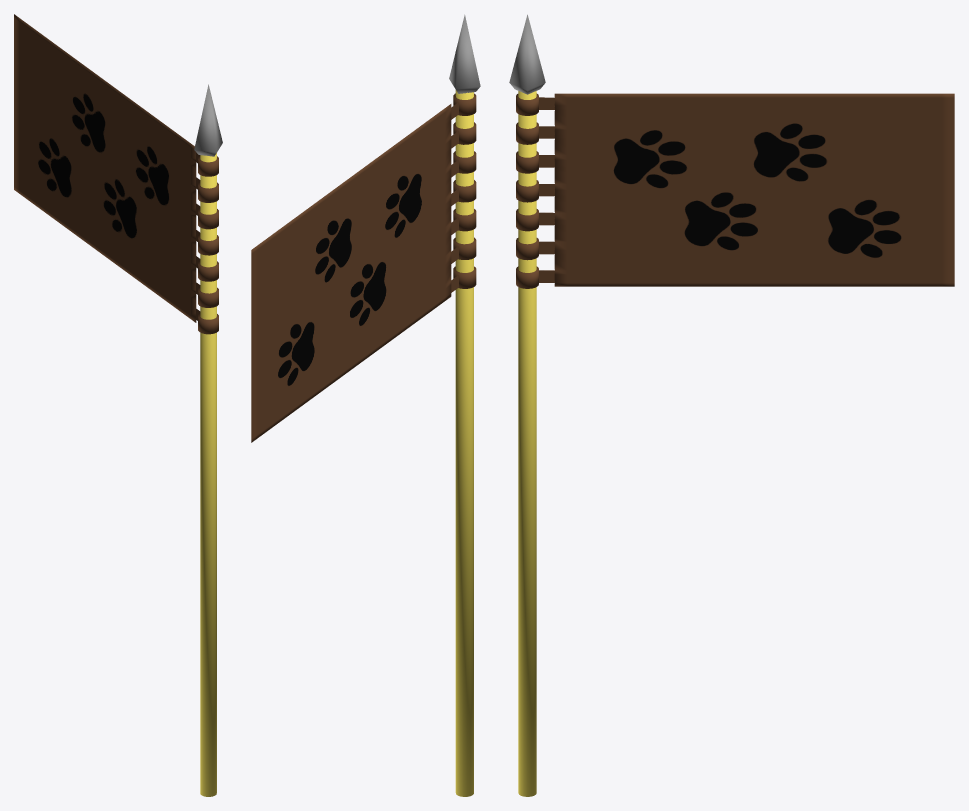
The model's file is Flag_FBX.fbx.
The picture shows the model from 3 angles, left to right: view 1: azimuth 30°, elevation 25°; view 2: azimuth 150°, elevation 25°; view 3: azimuth 270°, elevation 25°; orthographic projection. The views are drawn at different scales.
Parts seen in each view (by area): view 1: flag, pole, flag_connection; view 2: flag, pole, flag_connection; view 3: flag, pole, flag_connection.
Part boxes in pixels (bbox=[...]): flag: bbox=[14, 14, 200, 322]; pole: bbox=[194, 84, 222, 796]; flag_connection: bbox=[198, 156, 218, 334]; flag: bbox=[251, 102, 458, 442]; pole: bbox=[449, 14, 480, 796]; flag_connection: bbox=[453, 93, 476, 288]; flag: bbox=[539, 93, 954, 286]; pole: bbox=[509, 14, 545, 796]; flag_connection: bbox=[516, 93, 538, 288].
Bounding box in the file's own units: 0.4917 × 11.58 × 6.
Materials: 4 (1 with a texture image).
